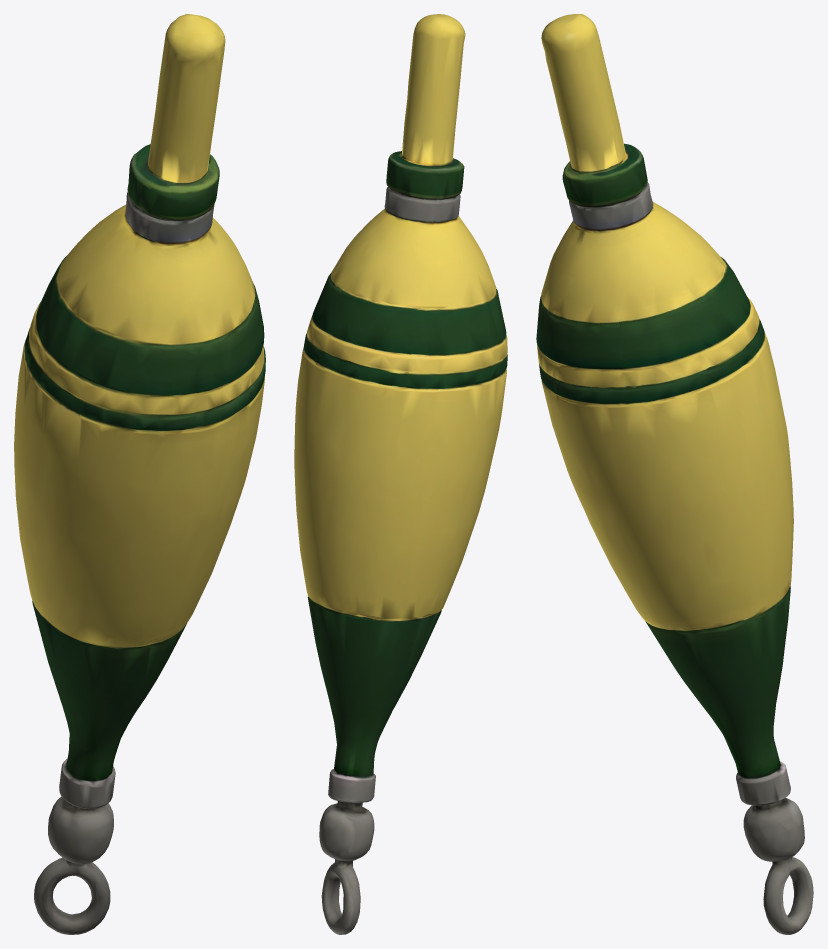
File: gear-float3.glb
The picture shows the model from 3 angles, left to right: view 1: azimuth 30°, elevation 25°; view 2: azimuth 150°, elevation 25°; view 3: azimuth 270°, elevation 25°; orthographic projection. The views are drawn at different scales.
Parts seen in each view (by area): view 1: tripo_node_e5f074fb-506f-4da6-9963-f856bc19a1ea; view 2: tripo_node_e5f074fb-506f-4da6-9963-f856bc19a1ea; view 3: tripo_node_e5f074fb-506f-4da6-9963-f856bc19a1ea.
Part boxes in pixels (x1,y1,x2,y2): tripo_node_e5f074fb-506f-4da6-9963-f856bc19a1ea: (14,14,265,934); tripo_node_e5f074fb-506f-4da6-9963-f856bc19a1ea: (294,14,507,934); tripo_node_e5f074fb-506f-4da6-9963-f856bc19a1ea: (536,14,813,934).
Size of the model in its own units: 0.2191 by 1 by 0.2738.
1 material, 1 textured.
